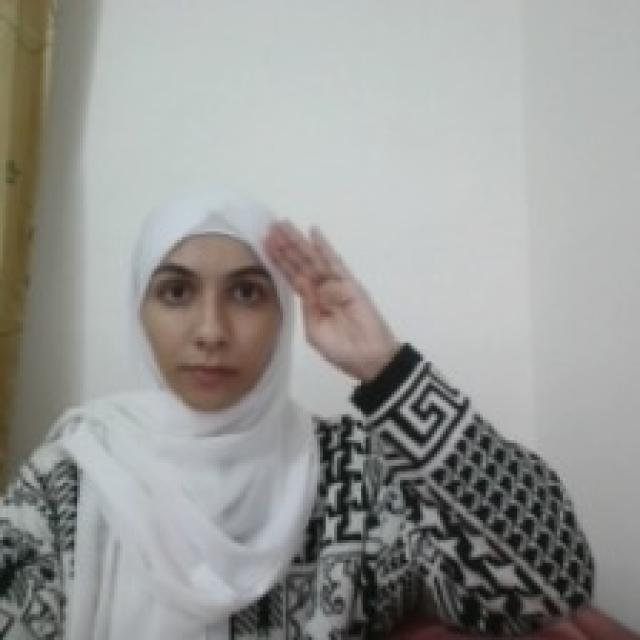Thanks: (260, 210, 390, 375)
